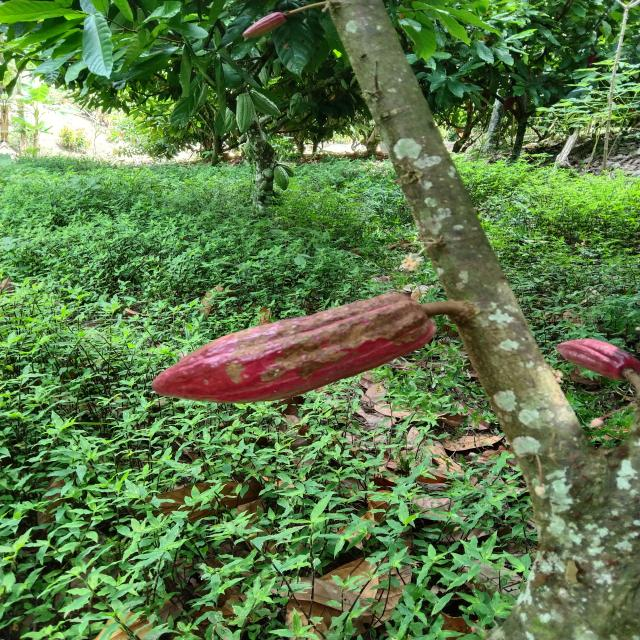Sana: (147, 296, 436, 404), (556, 335, 634, 375), (242, 13, 284, 39), (250, 89, 284, 115), (236, 93, 252, 133), (275, 164, 288, 191), (278, 163, 295, 176)
